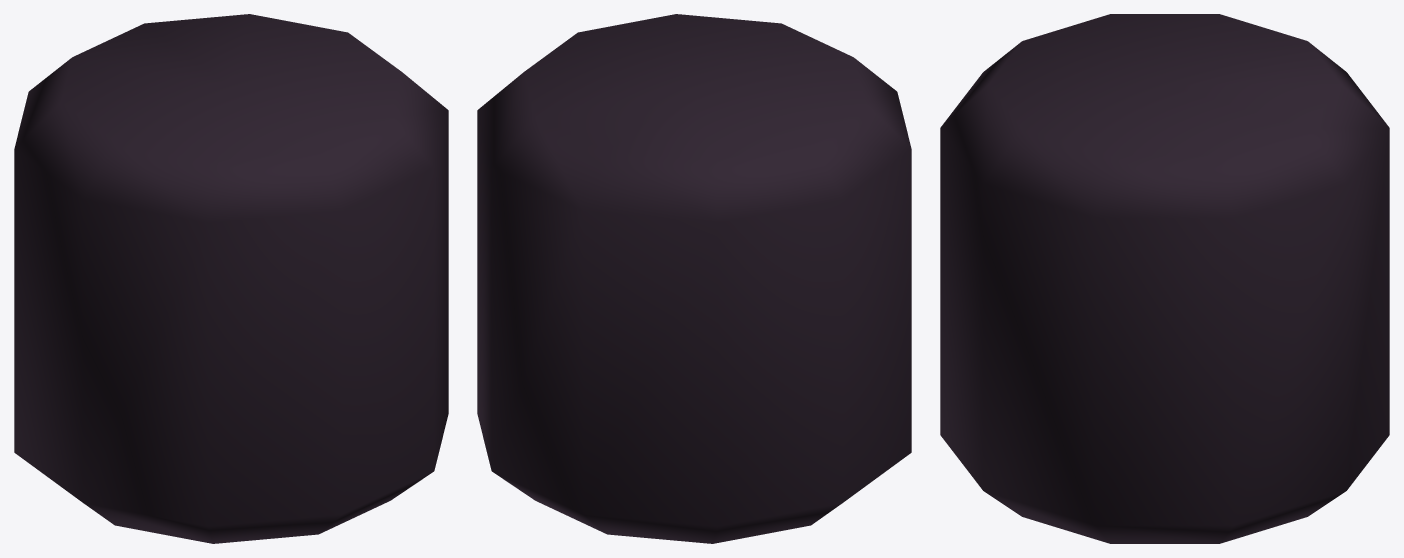
Rendered from Marshmallow_Burnt.fbx.
The picture shows the model from 3 angles, left to right: view 1: azimuth 30°, elevation 25°; view 2: azimuth 150°, elevation 25°; view 3: azimuth 270°, elevation 25°; orthographic projection.
Parts seen in each view (by area): view 1: Marshmallow_Burnt; view 2: Marshmallow_Burnt; view 3: Marshmallow_Burnt.
Boxes of the visible parts, box(x1,y1,x2,y2) form: Marshmallow_Burnt: box(14, 14, 448, 543); Marshmallow_Burnt: box(477, 14, 911, 543); Marshmallow_Burnt: box(940, 14, 1389, 543).
Bounding box in the file's own units: 18.43 × 18.46 × 19.38.
